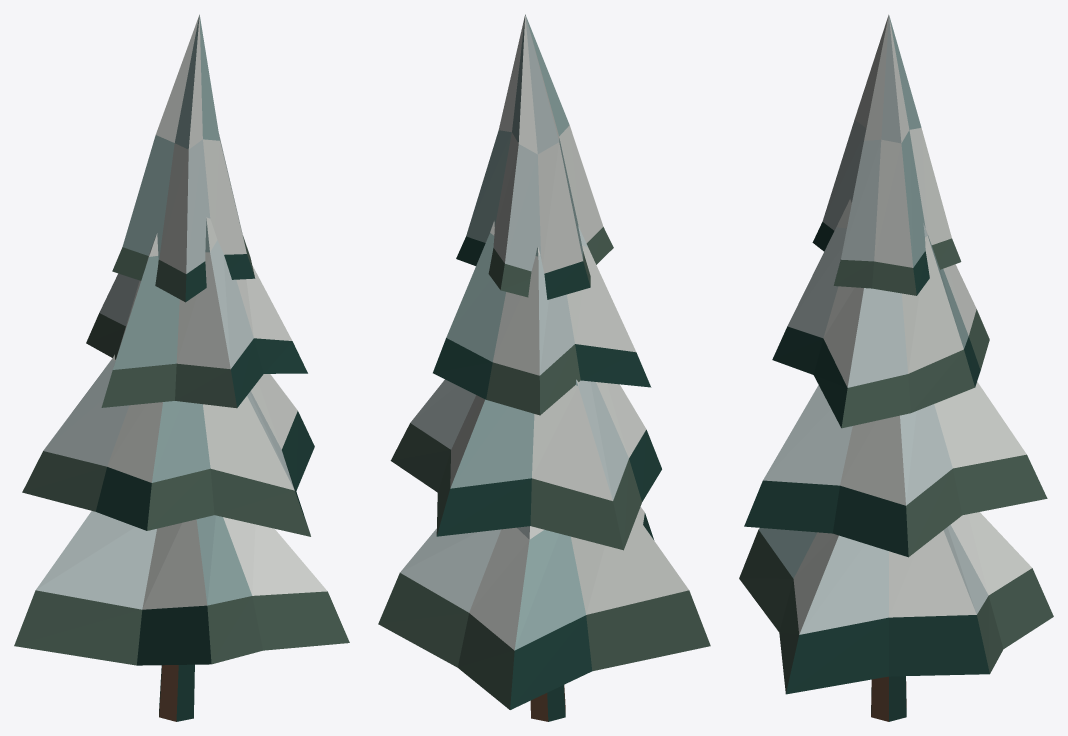
Rendered from fir.glb.
3 renders of one model, left to right at view 1: azimuth 30°, elevation 25°; view 2: azimuth 150°, elevation 25°; view 3: azimuth 270°, elevation 25°, orthographic. The views are drawn at different scales.
Parts seen in each view (by area): view 1: fir; view 2: fir; view 3: fir.
Part boxes in pixels (x1,y1,x2,y2): fir: (14, 14, 349, 721); fir: (378, 14, 710, 721); fir: (739, 14, 1053, 721).
Bounding box in the file's own units: 3.39 × 7.26 × 2.91.
